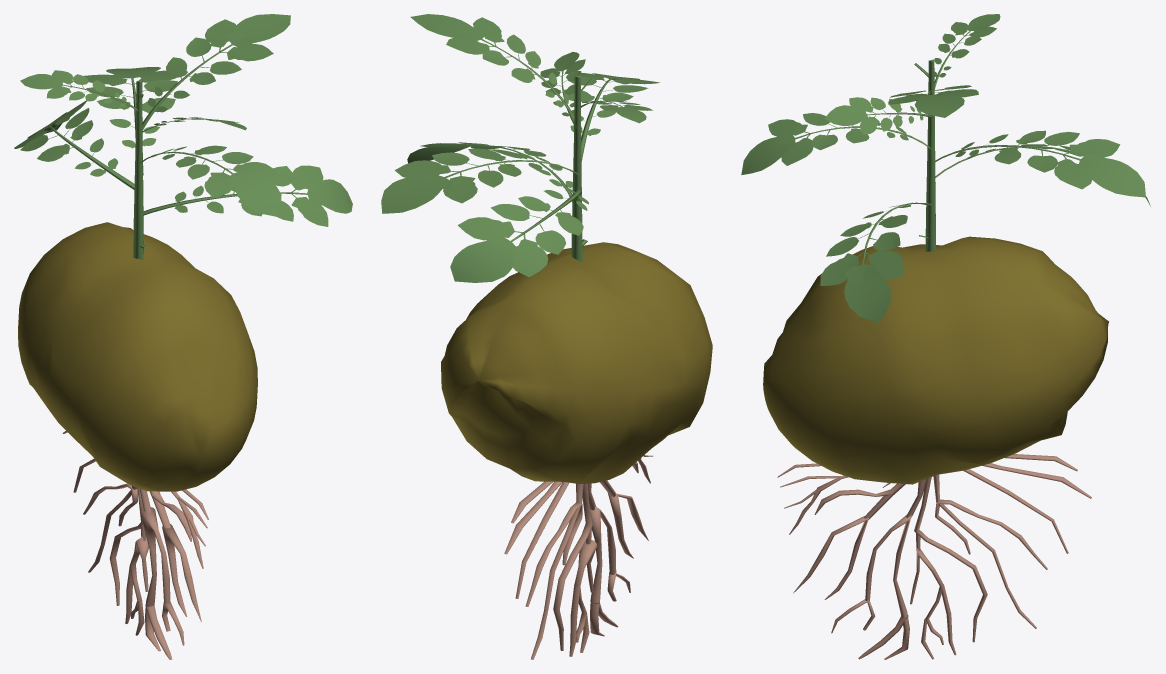
The model's file is BatataPequenaa.fbx.
3 views of the same model, side by side, from view 1: azimuth 30°, elevation 25°; view 2: azimuth 150°, elevation 25°; view 3: azimuth 270°, elevation 25° (orthographic). The views are drawn at different scales.
Parts seen in each view (by area): view 1: pSphere3, Potato_02, pasted__roots; view 2: pSphere3, Potato_02, pasted__roots; view 3: pSphere3, Potato_02, pasted__roots.
Boxes of the visible parts, x1,y1,x2,y2 form: pSphere3: [18, 222, 257, 491]; Potato_02: [14, 14, 352, 259]; pasted__roots: [62, 431, 208, 659]; pSphere3: [441, 242, 712, 483]; Potato_02: [381, 14, 659, 282]; pasted__roots: [504, 455, 653, 659]; pSphere3: [763, 236, 1108, 484]; Potato_02: [741, 14, 1150, 322]; pasted__roots: [777, 454, 1091, 659].
Bounding box in the file's own units: 3.63 × 7.03 × 4.18.
